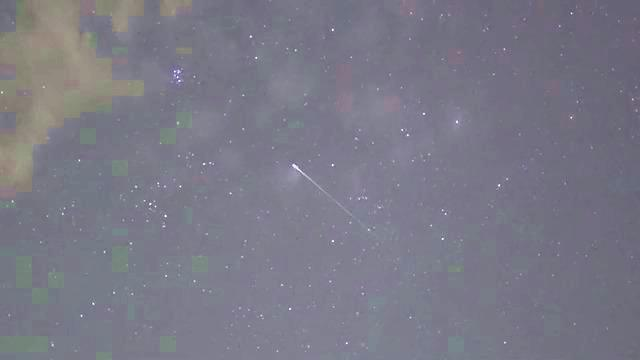meteorite: (273, 155, 382, 236)
